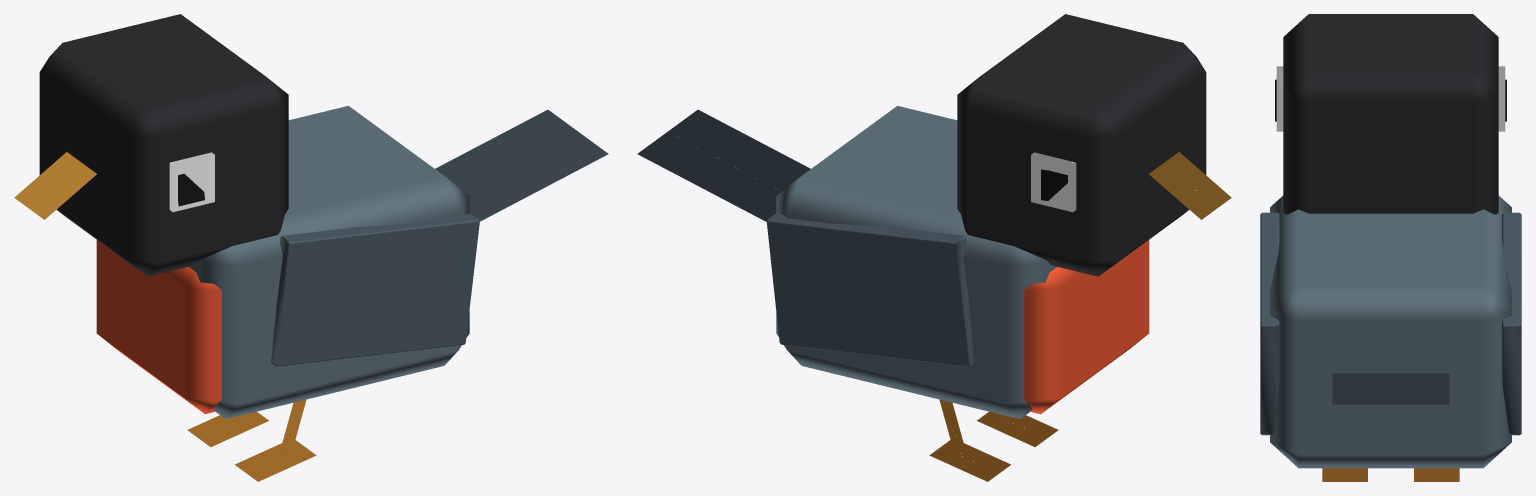
File: robinJ_lod2.glb
3 views of the same model, side by side, from view 1: azimuth 30°, elevation 25°; view 2: azimuth 150°, elevation 25°; view 3: azimuth 270°, elevation 25° (orthographic). The views are drawn at different scales.
Parts seen in each view (by area): view 1: bird_01_Cube.011; view 2: bird_01_Cube.011; view 3: bird_01_Cube.011.
Part boxes in pixels (x1=…): bird_01_Cube.011: x1=14, y1=14, x2=608, y2=481; bird_01_Cube.011: x1=637, y1=14, x2=1231, y2=481; bird_01_Cube.011: x1=1260, y1=14, x2=1521, y2=481.
Size of the model in its own units: 278 by 199 by 119.
Materials: 1 (1 with a texture image).
